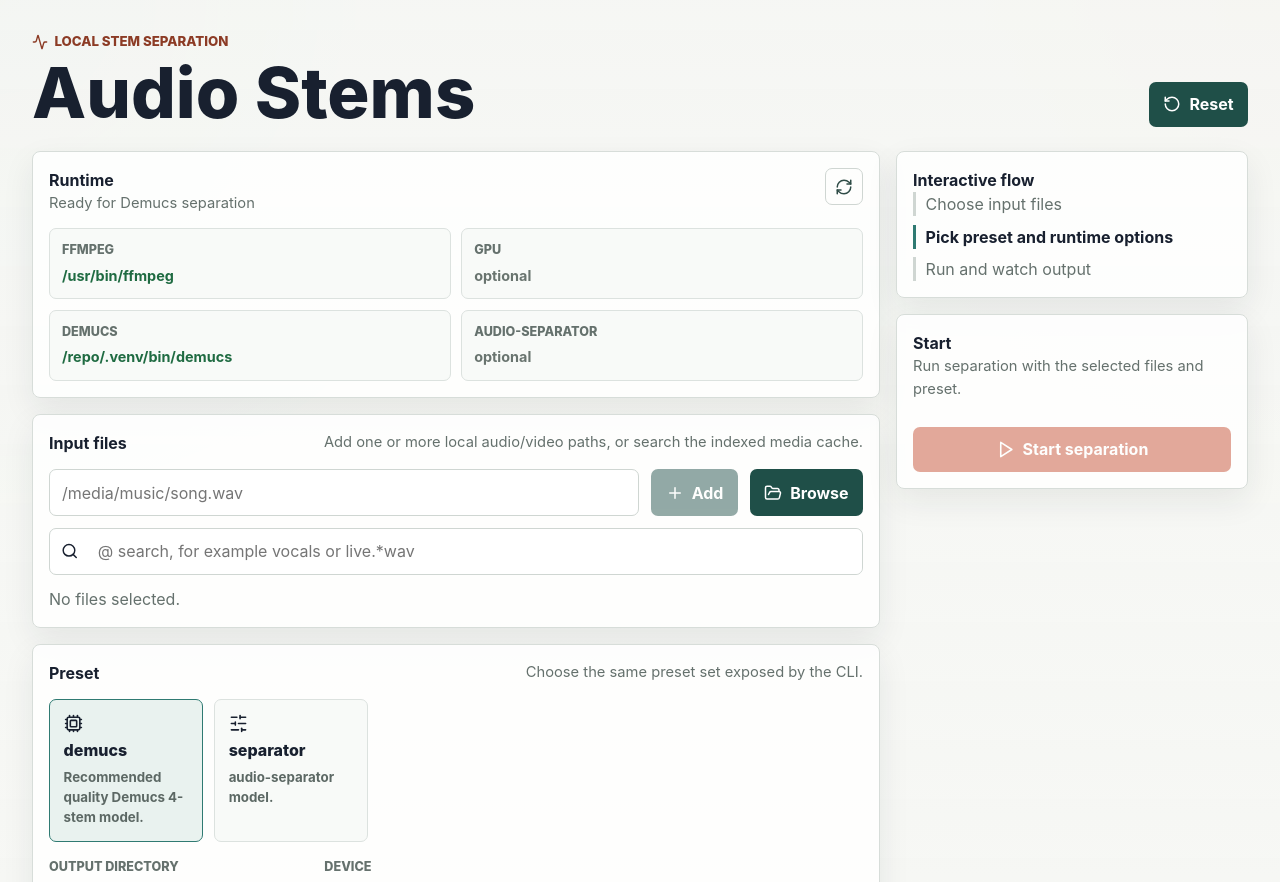
it: App › adds a file from the local folder browser
Click the button "Browse".
click(806, 493)  # box [750,469,863,516]
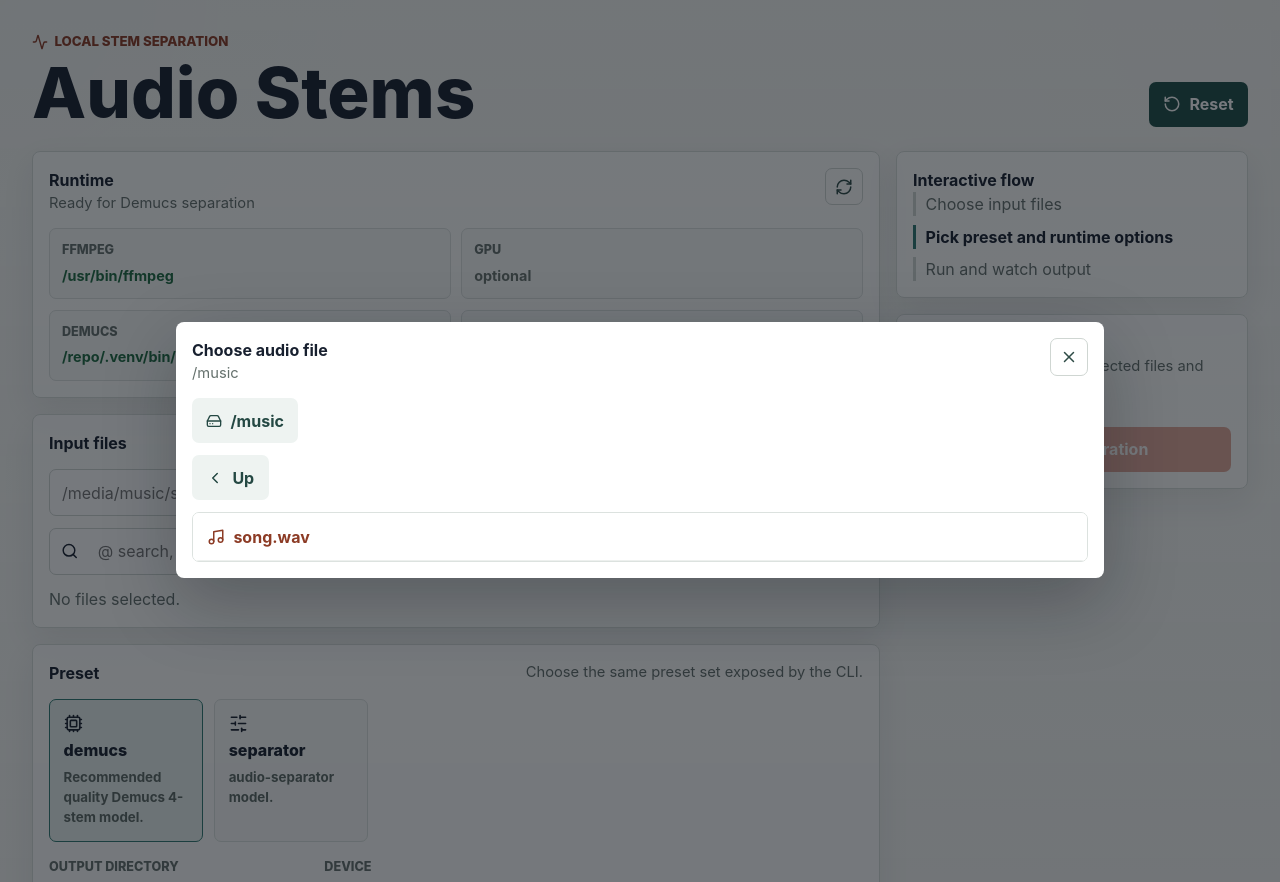
Click the button "song.wav".
click(272, 537)  # box [193,513,1087,561]
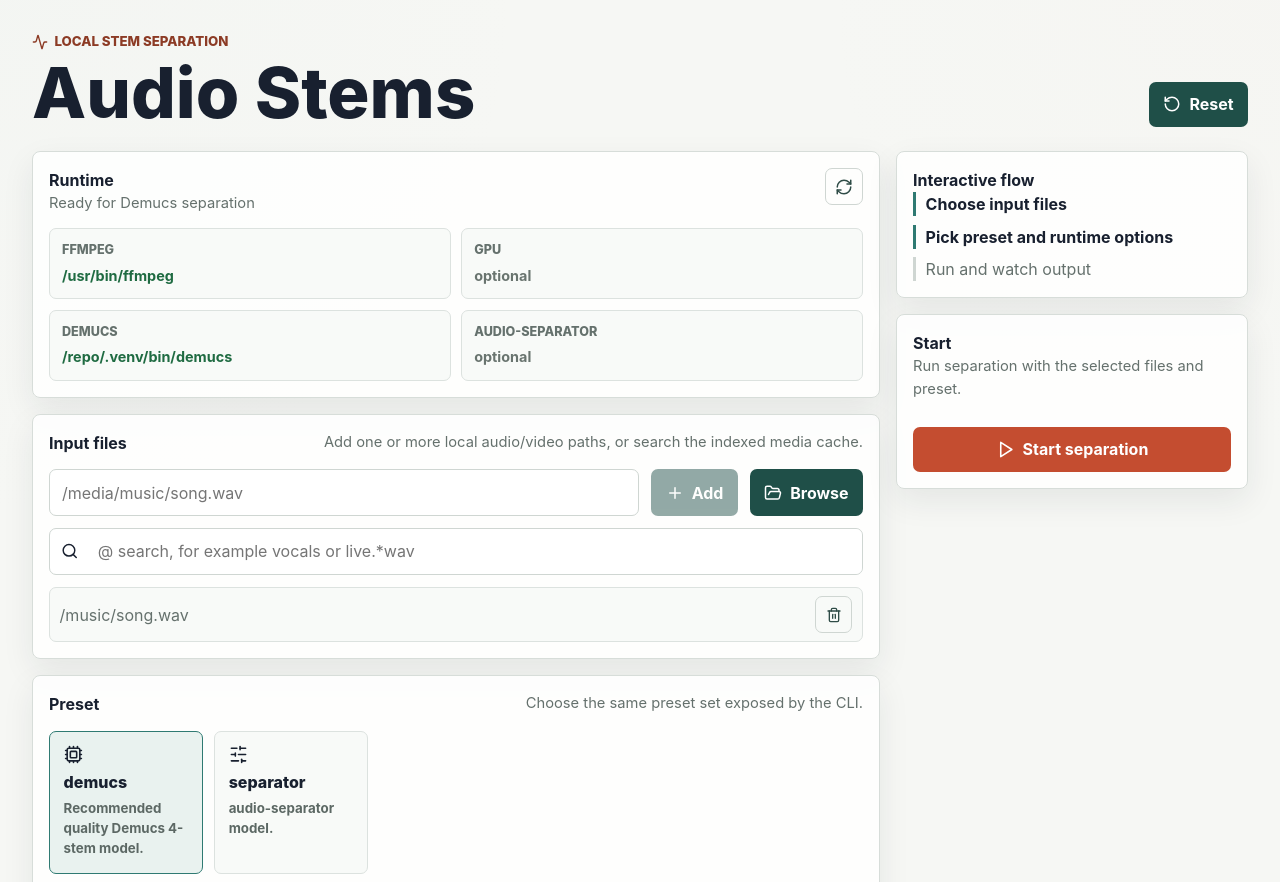
Result: the text "/music/song.wav" is shown at [60,604,189,624]
